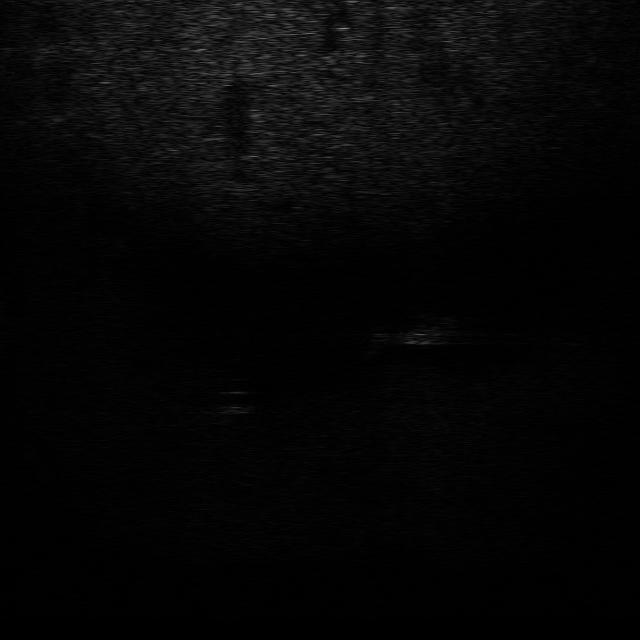ball: (210, 387, 260, 418)
human body: (362, 314, 463, 357)
